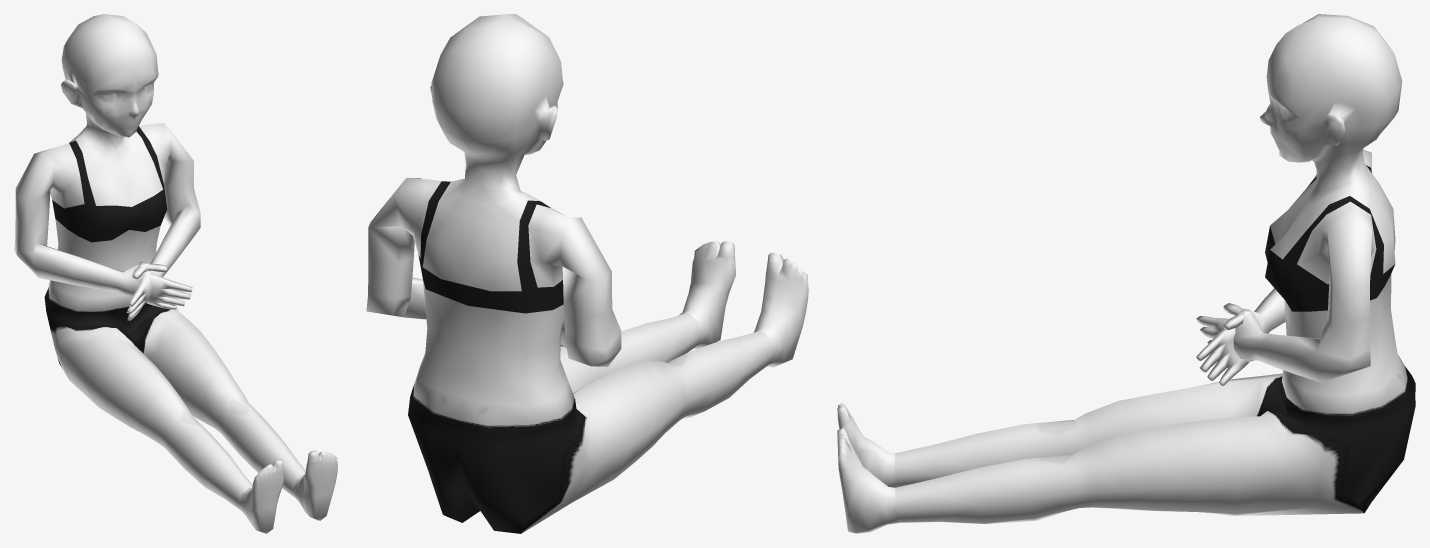
File: npc_sitting.glb
3 renders of one model, left to right at view 1: azimuth 30°, elevation 25°; view 2: azimuth 150°, elevation 25°; view 3: azimuth 270°, elevation 25°, orthographic. The views are drawn at different scales.
Parts seen in each view (by area): view 1: F_Feet_BaseMesh.002; view 2: F_Feet_BaseMesh.002; view 3: F_Feet_BaseMesh.002.
Boxes of the visible parts, x1,y1,x2,y2 form: F_Feet_BaseMesh.002: [14, 14, 337, 533]; F_Feet_BaseMesh.002: [366, 14, 808, 533]; F_Feet_BaseMesh.002: [837, 14, 1415, 533].
Bounding box in the file's own units: 0.5739 × 1.19 × 1.25.
Materials: 2 (2 with a texture image).
